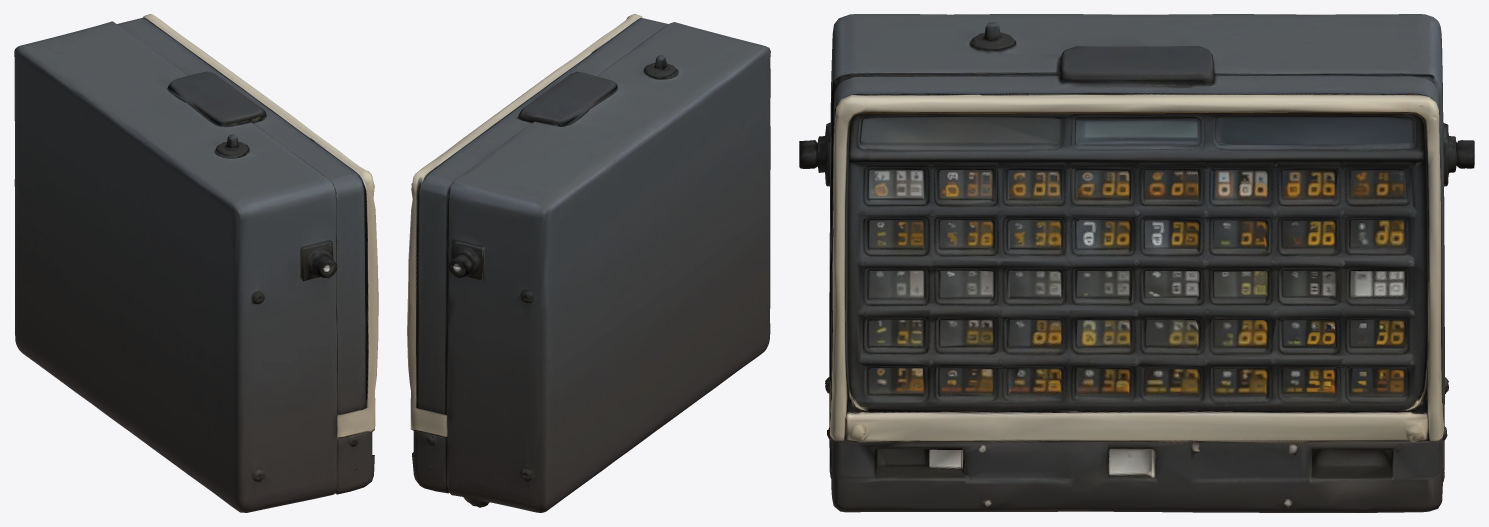
The model's file is bus-faredisplay-v2.glb.
3 renders of one model, left to right at view 1: azimuth 30°, elevation 25°; view 2: azimuth 150°, elevation 25°; view 3: azimuth 270°, elevation 25°, orthographic. The views are drawn at different scales.
Parts seen in each view (by area): view 1: tripo_node_e0a194da-552e-485f-8728-7d93516f99da; view 2: tripo_node_e0a194da-552e-485f-8728-7d93516f99da; view 3: tripo_node_e0a194da-552e-485f-8728-7d93516f99da.
Boxes of the visible parts, bbox=[...] form: tripo_node_e0a194da-552e-485f-8728-7d93516f99da: bbox=[14, 14, 378, 512]; tripo_node_e0a194da-552e-485f-8728-7d93516f99da: bbox=[407, 14, 770, 512]; tripo_node_e0a194da-552e-485f-8728-7d93516f99da: bbox=[799, 14, 1474, 512].
Size of the model in its own units: 0.3198 by 0.7587 by 0.9814.
Materials: 1 (1 with a texture image).
